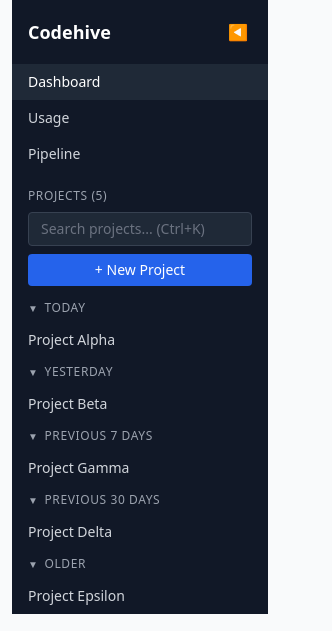
Test: Sidebar › collapsed sidebar hides search input and time groups
The width and height of the screenshot is (332, 631).
Check: the link "Project Alpha" is shown, box [28,330,115,349]
Step 1. Click the button with test id "sidebar-toggle" → point(238, 32), box [224,16,252,48]
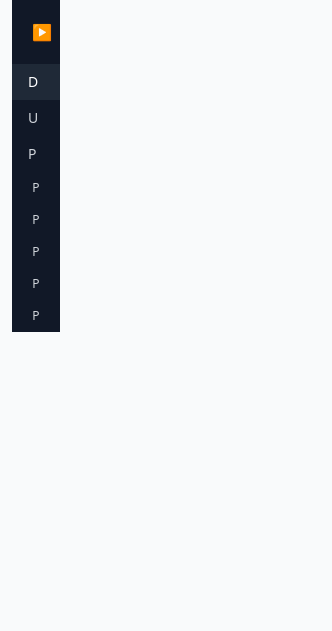
Check: the field with test id "sidebar-search" is gone
Check: the element with test id "time-group-today" is gone
Check: the text with test id "sidebar-project-count" is gone
